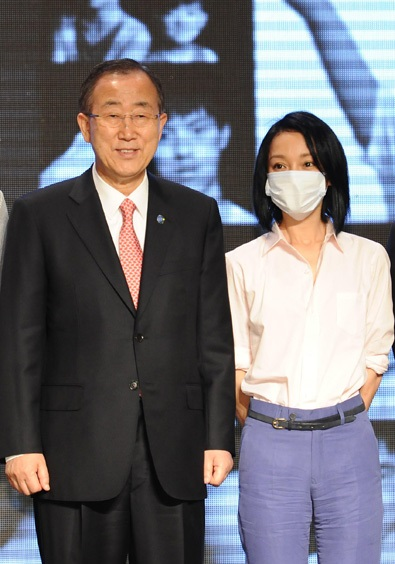face_mask: (93, 74, 156, 175), (267, 129, 327, 219)
